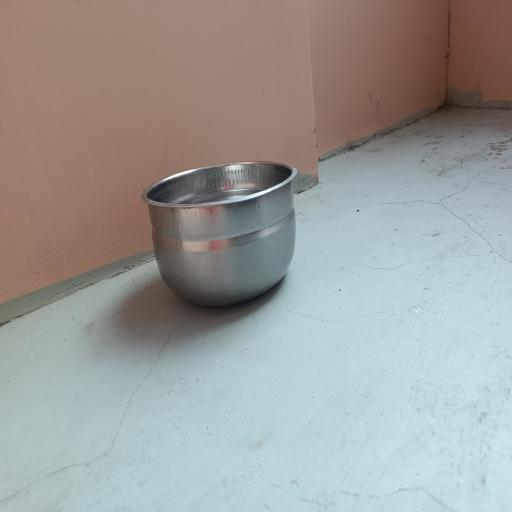vessel: (141, 162, 297, 306)
